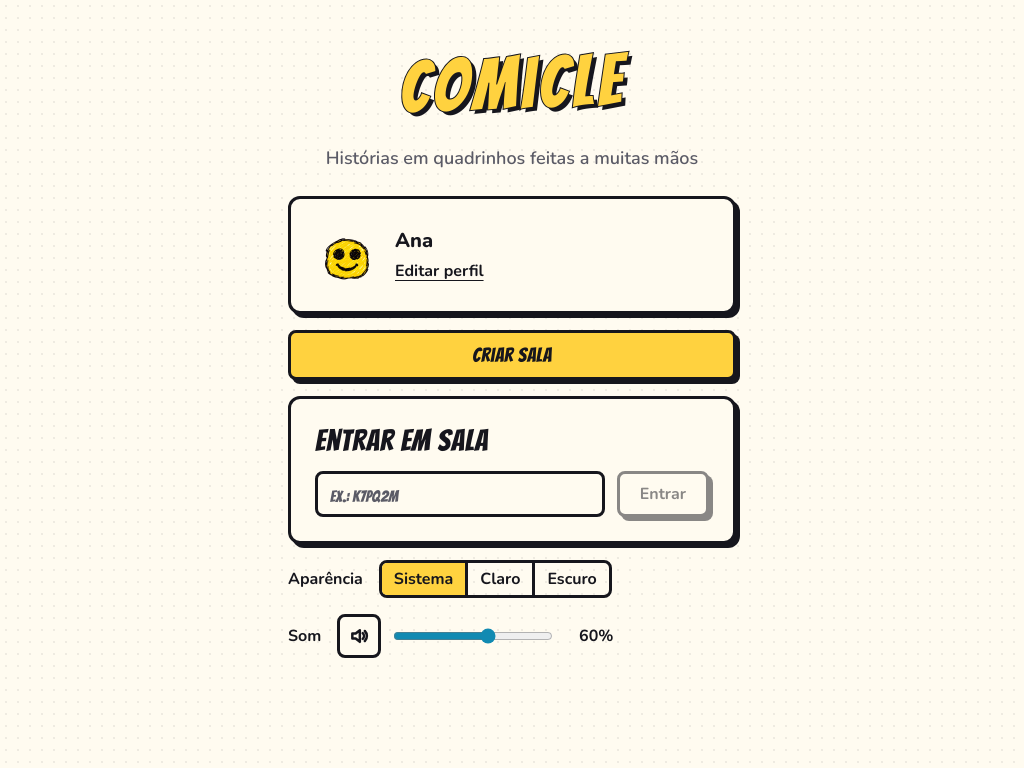
Test: tela inicial › R6: o campo de código normaliza para maiúsculas e ignora caracteres inválidos
In the field named "Código da sala": x=460, y=494 [315, 471, 605, 517], type "k7 pq"
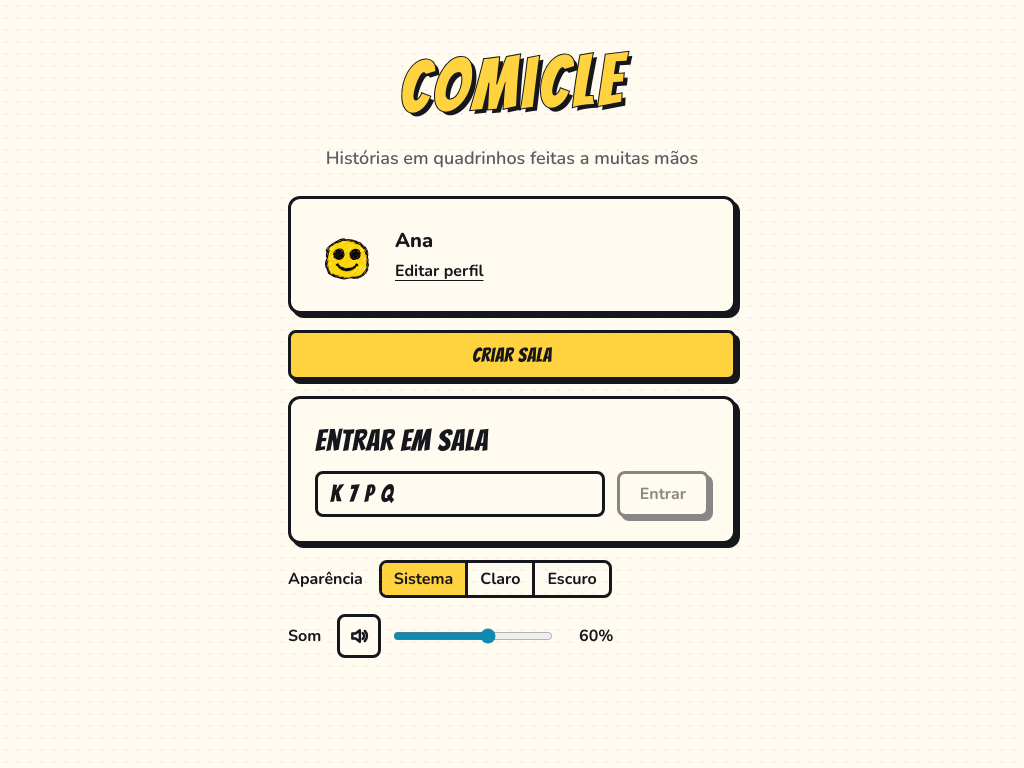
Check: the button "Entrar" is disabled, box [617, 471, 709, 517]
Check: the field named "Código da sala" holds "K7PQ"
Replace the text in the field named "Código da sala" with "k7 pq-2m0oil": x=460, y=494 [315, 471, 605, 517]
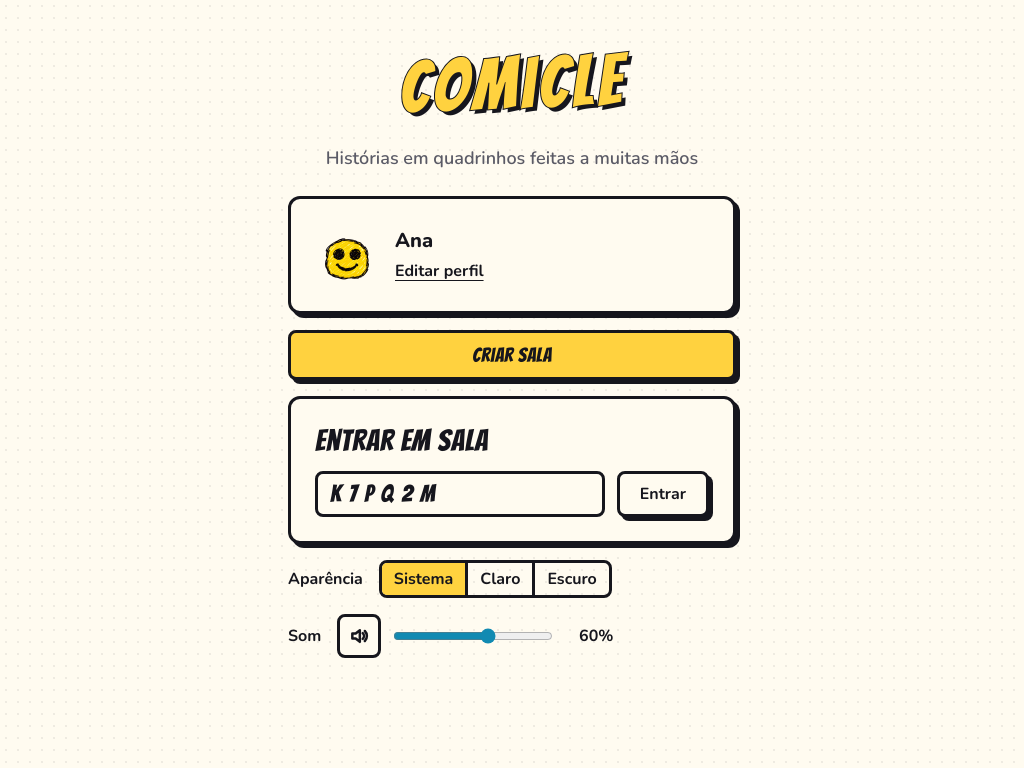
Check: the field named "Código da sala" holds "K7PQ2M", box [315, 471, 605, 517]
Check: the button "Entrar" is enabled, box [617, 471, 709, 517]
